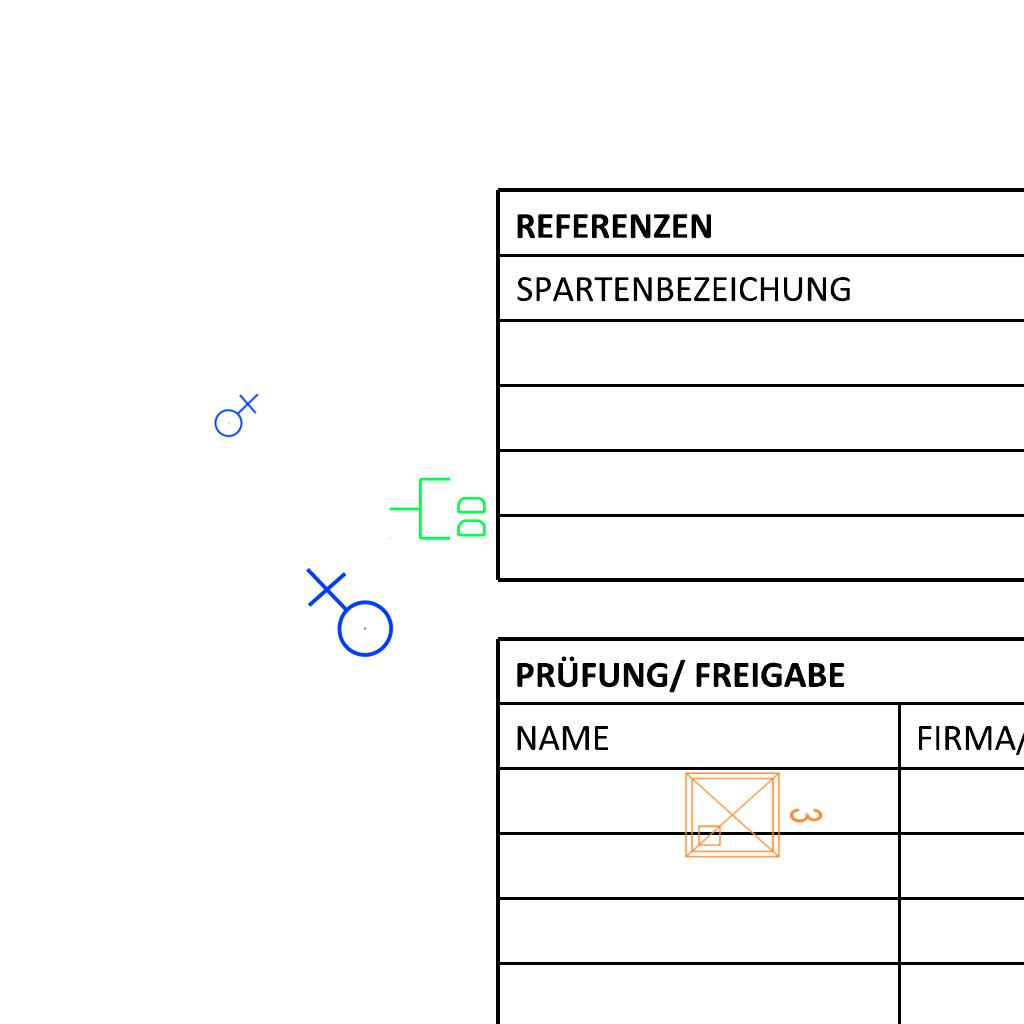Datenanschluss_zweifach: (387, 475, 490, 544)
Einbaudownlights_LED_Konferenzraeume: (678, 761, 828, 865)
Elektroanschluss_allgemein_230V_Geraeteanschlussdose_230V: (301, 567, 395, 666), (210, 391, 259, 438)
